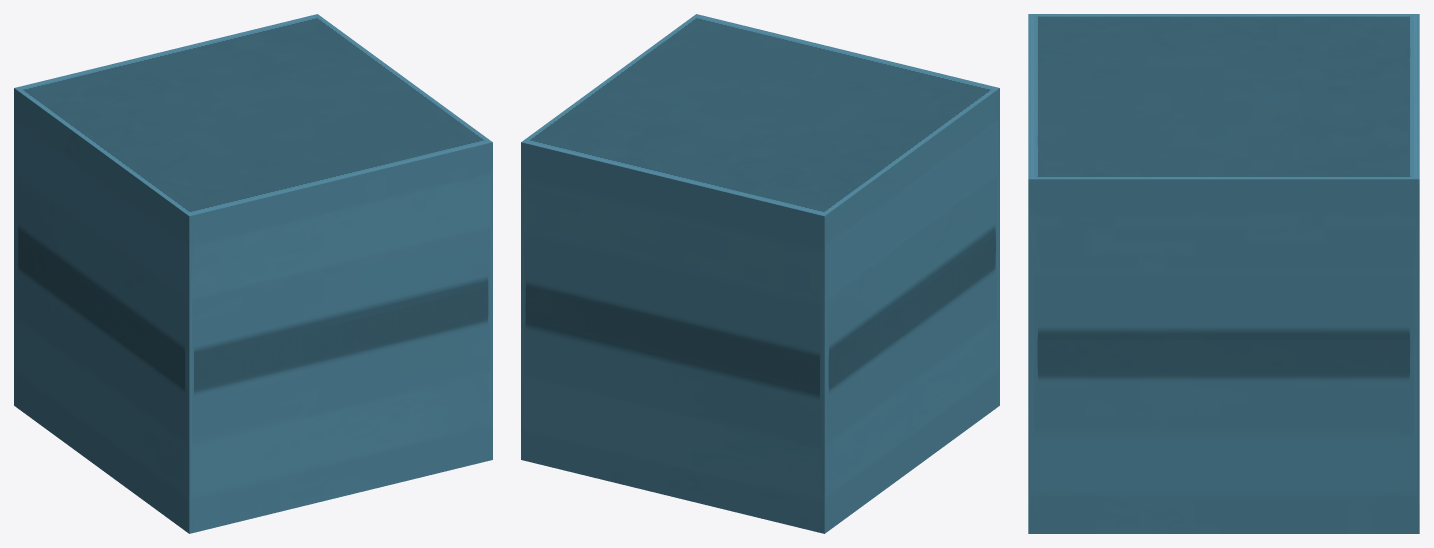
3 views of the same model, side by side, from view 1: azimuth 30°, elevation 25°; view 2: azimuth 150°, elevation 25°; view 3: azimuth 270°, elevation 25° (orthographic). The views are drawn at different scales.
Visible parts, largest first — view 1: MAT_ScalableMesh_03 3; view 2: MAT_ScalableMesh_03 3; view 3: MAT_ScalableMesh_03 3.
Boxes of the visible parts, x1,y1,x2,y2 form: MAT_ScalableMesh_03 3: [14, 14, 492, 533]; MAT_ScalableMesh_03 3: [521, 14, 999, 533]; MAT_ScalableMesh_03 3: [1028, 14, 1419, 533].
Bounding box in the file's own units: 1 × 1 × 1.
Materials: 1 (1 with a texture image).
